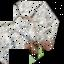Morning glory: (5, 18, 61, 64)
